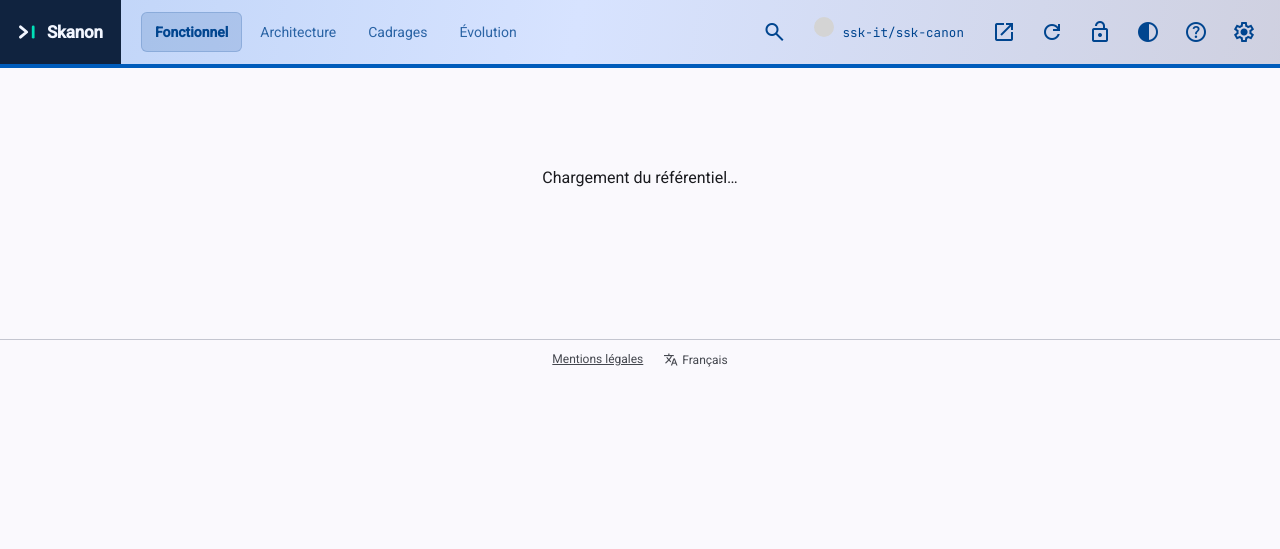
Test: Display language › offers the three choices in the bottom bar, and applies one without reloading
Click the button with aria-label "Langue : Français": coordinates (696, 360) [663,352,728,367]
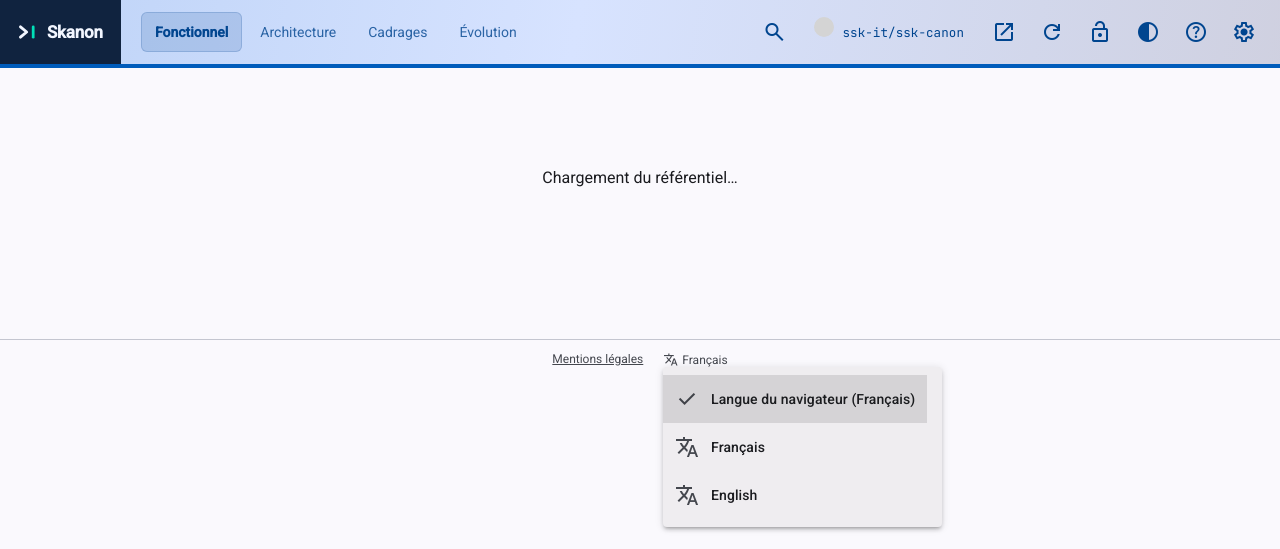
Click the menu item with class "ui-menu__entree" showing "English": coordinates (734, 495) [663,471,927,519]
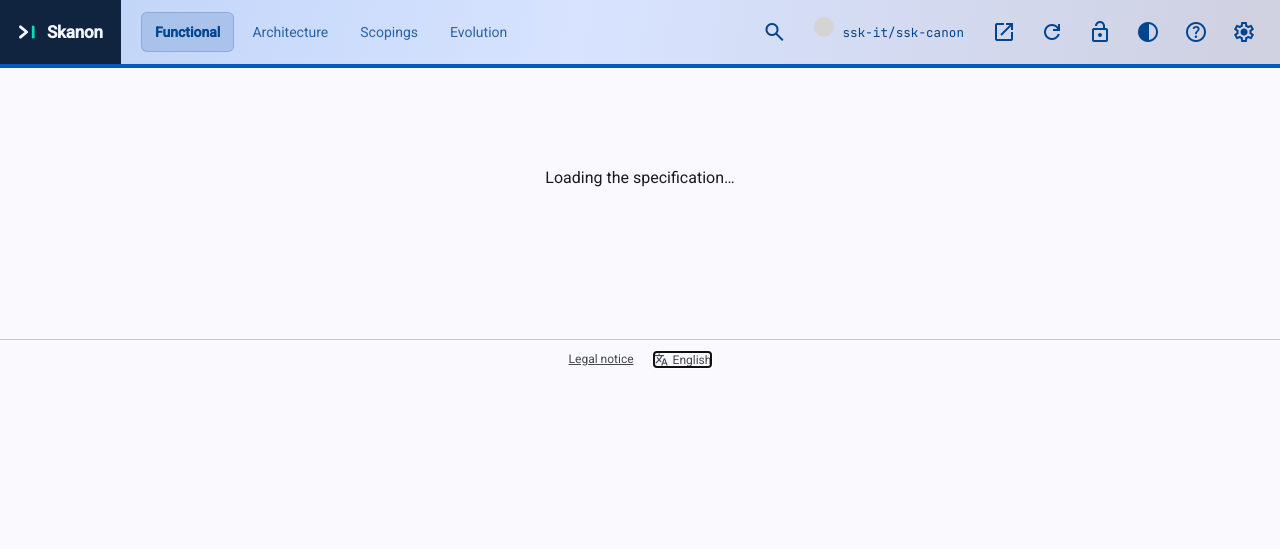
Expected: the footer reads "Legal notice", [569,352,634,367]
Expected: the button with aria-label "Language: English" reads "English", [654,352,711,367]
